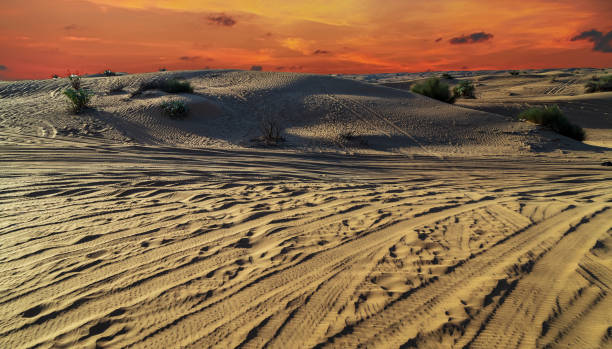vehicle_track: (0, 138, 611, 347), (173, 200, 489, 331), (329, 206, 599, 346), (471, 208, 611, 347), (323, 88, 441, 158), (544, 79, 576, 94)
